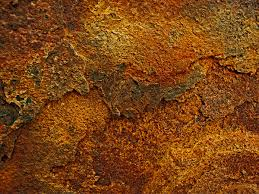rust: (1, 1, 259, 193)
